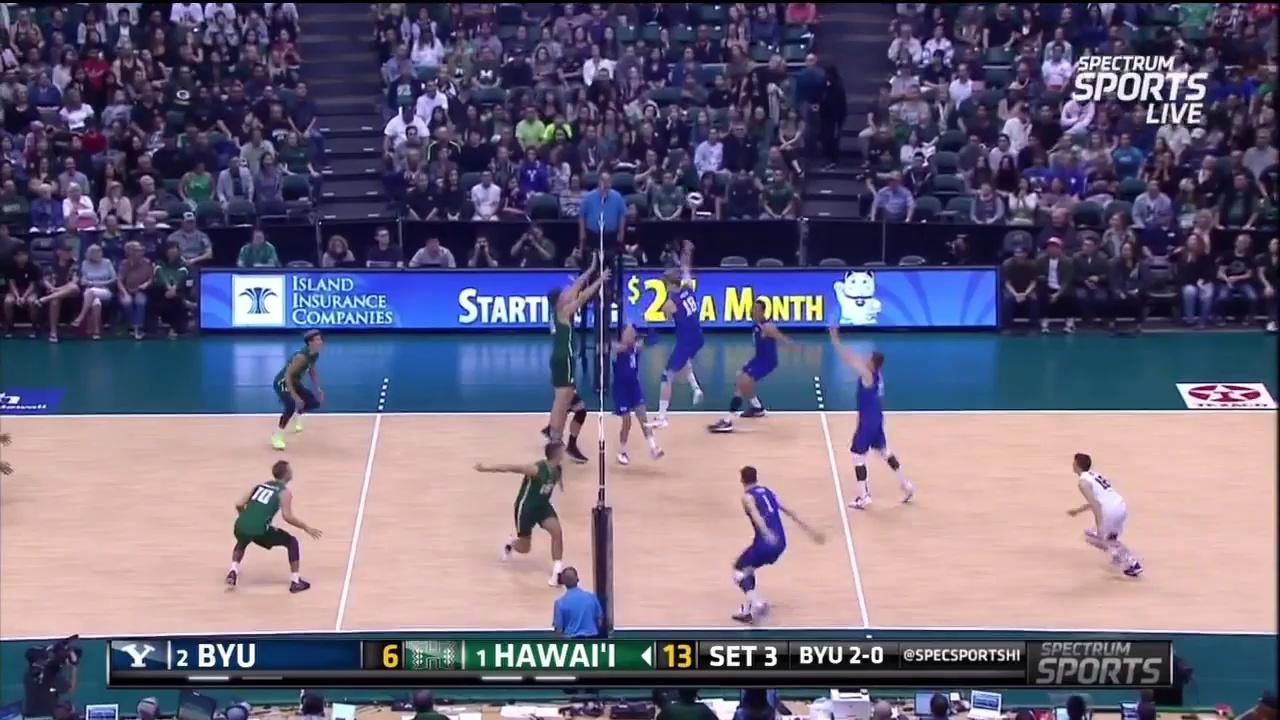player: (729, 469, 817, 619), (222, 462, 321, 590), (649, 252, 714, 411), (845, 349, 911, 505), (1067, 450, 1143, 581), (713, 304, 792, 429), (499, 444, 567, 580), (611, 313, 664, 469), (544, 279, 584, 449), (273, 333, 328, 449)
refree: (576, 169, 629, 281), (554, 562, 603, 643)
